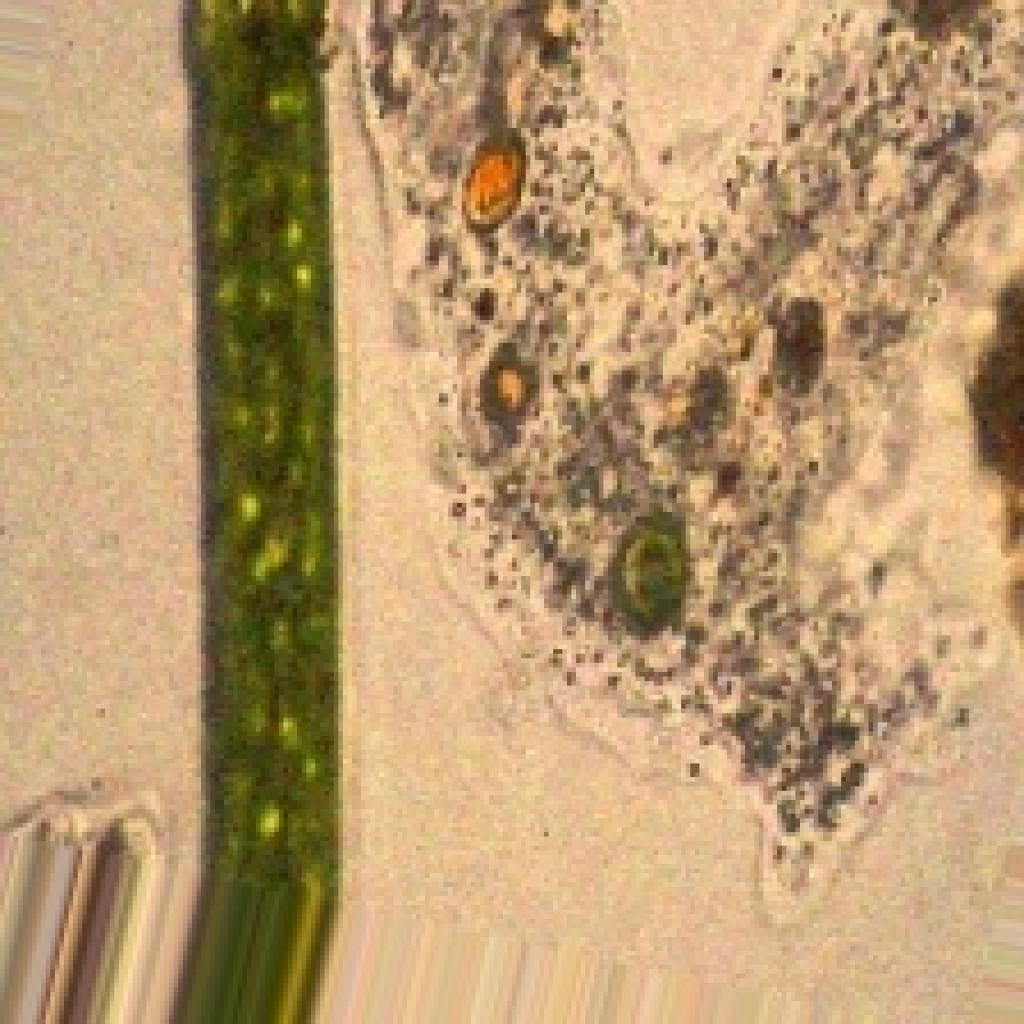Amoeba: (365, 0, 1024, 902), (155, 0, 342, 1019)
